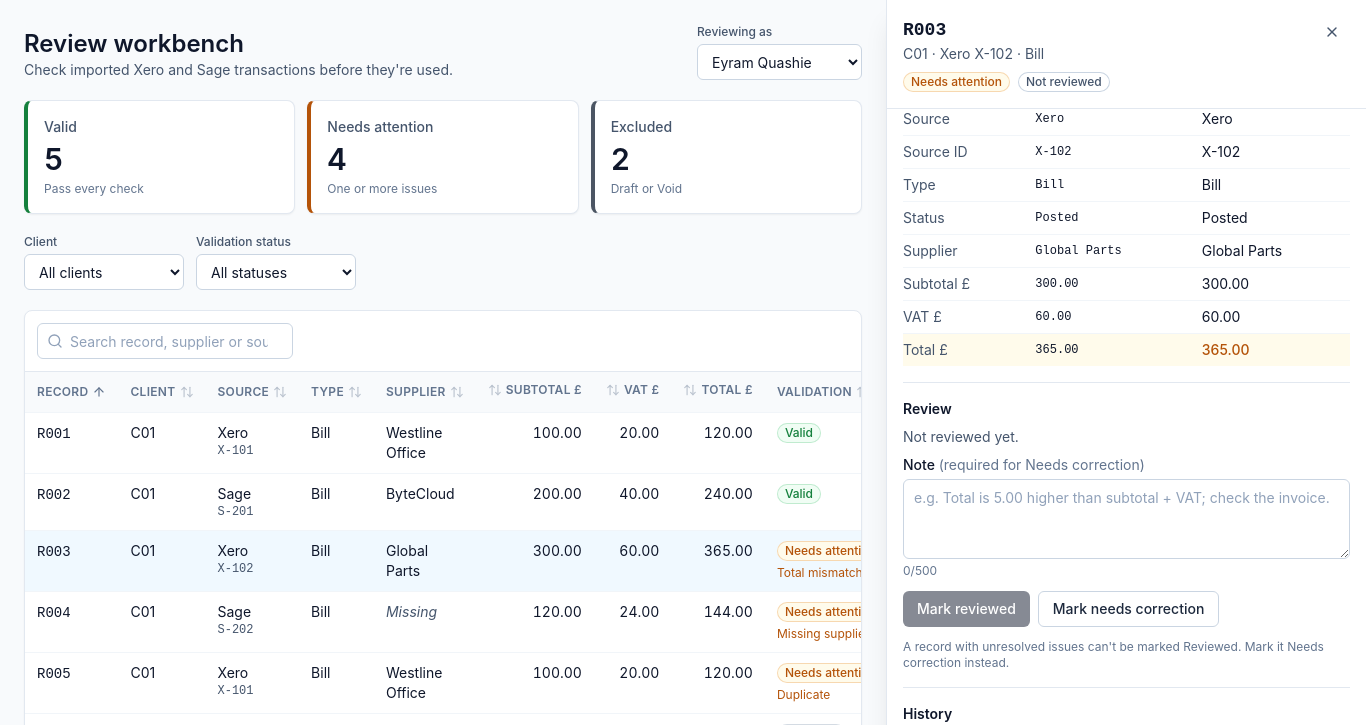
Test: Record detail panel › reviewing › records Needs correction with a trimmed note and shows it in the history
This screenshot has width=1366, height=725.
(page scrolled)
Expected: the text "R001" is shown, [37,426,71,442]
Expected: the dropdown labelled "Reviewing as" is enabled, [697,44,862,80]
In the text box labelled "Note (required for Needs correction)": (1126, 519) [903,479,1350,559], type "  Total is 5.00 too high  "
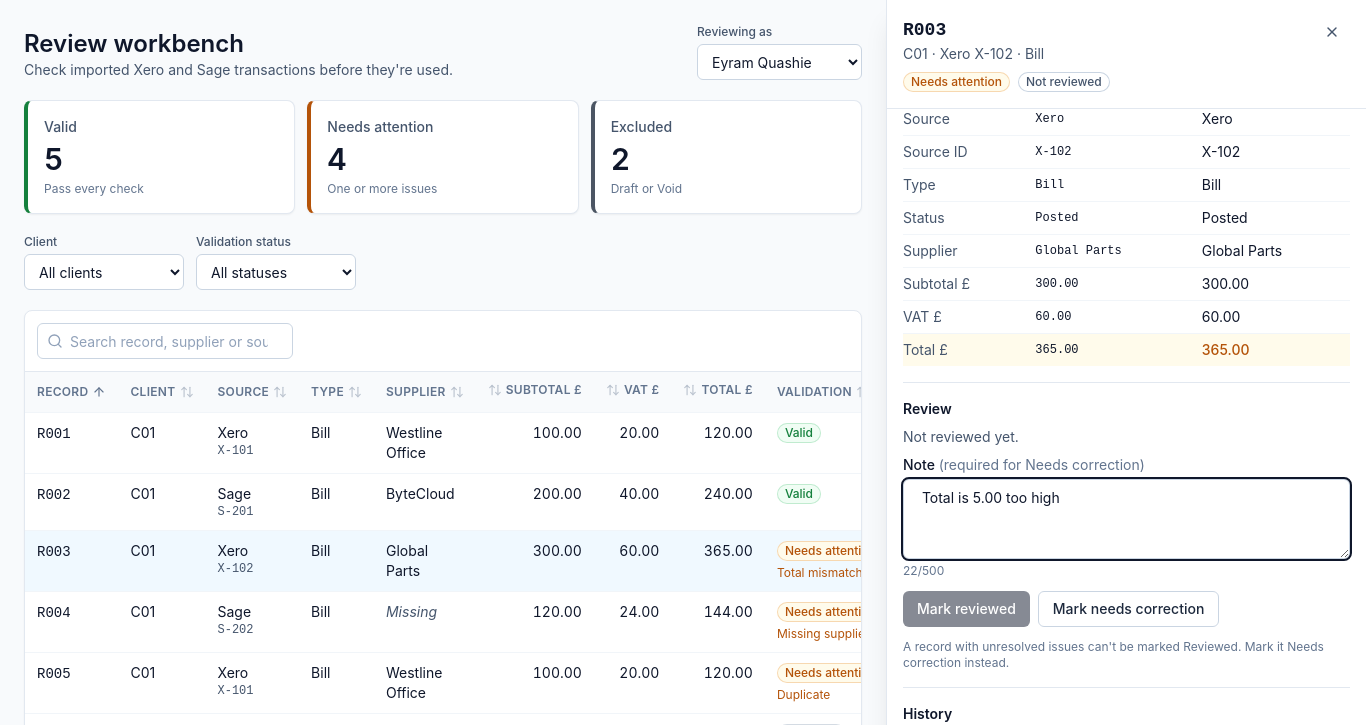
Click the button "Mark needs correction": (1129, 609) [1038,591,1219,627]
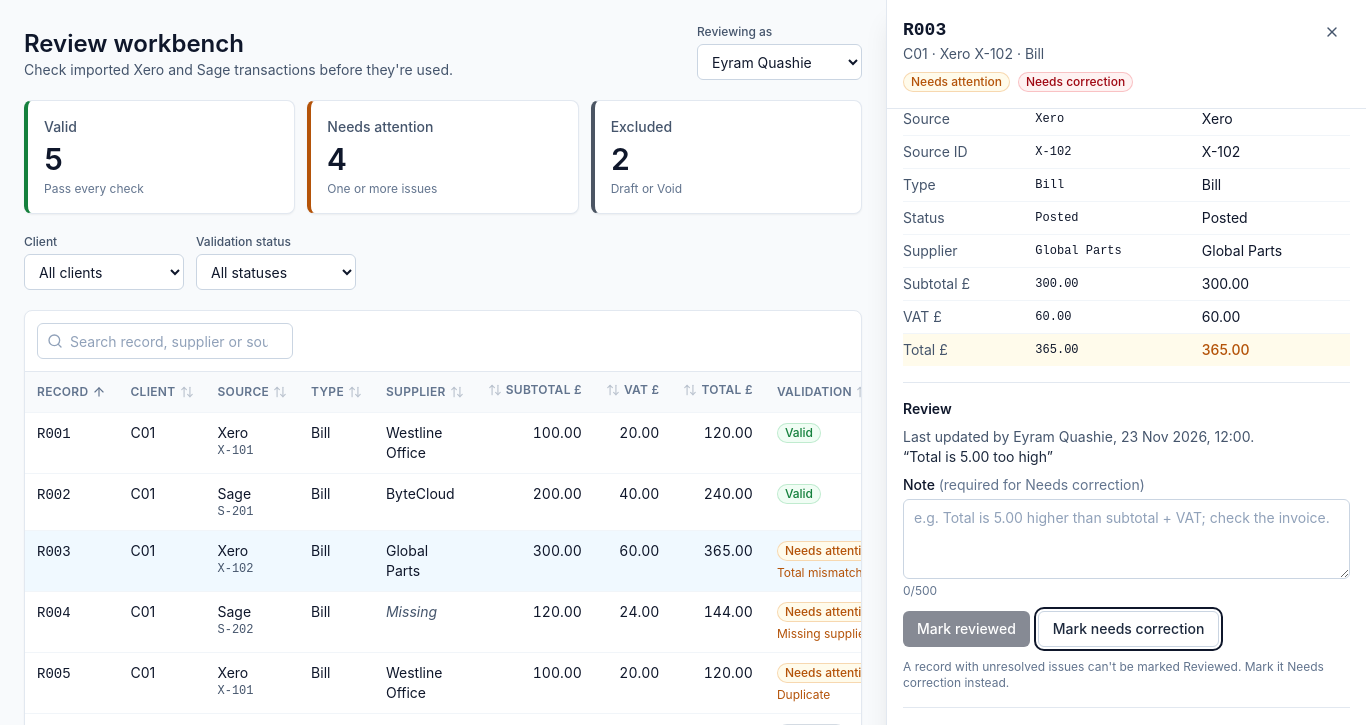
Now the text box labelled "Note (required for Needs correction)" is empty, box [903,499,1350,579]
